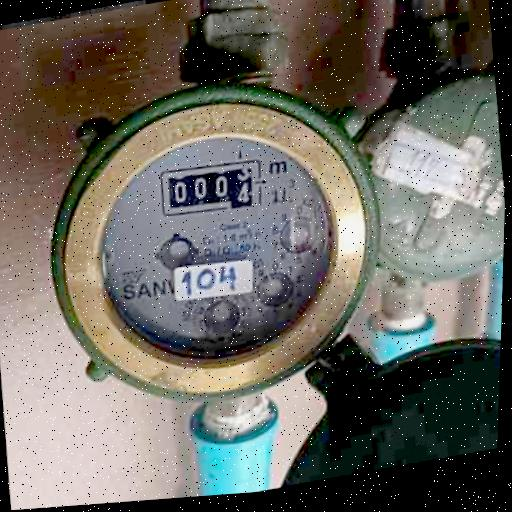0: (165, 174, 193, 209), (208, 169, 233, 205), (188, 171, 213, 206)
4: (227, 162, 256, 208)
border_water_meter_number: (155, 153, 265, 225)
